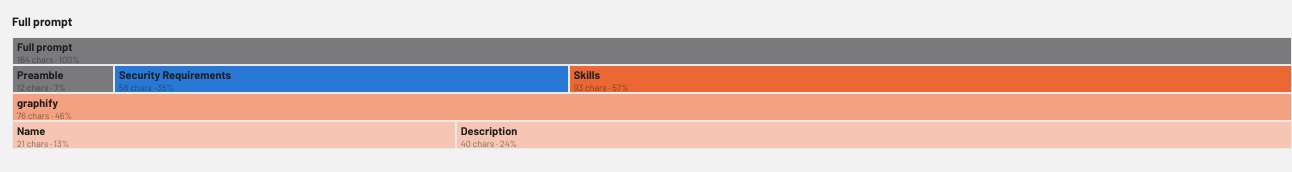
Test: PromptCompositionIcicle › zooms back out when the focused (top) row is clicked again
The width and height of the screenshot is (1292, 172).
Click the element showing "Skills 93 chars · 57%".
click(930, 79)  # box left=569, top=65, right=1291, bottom=93
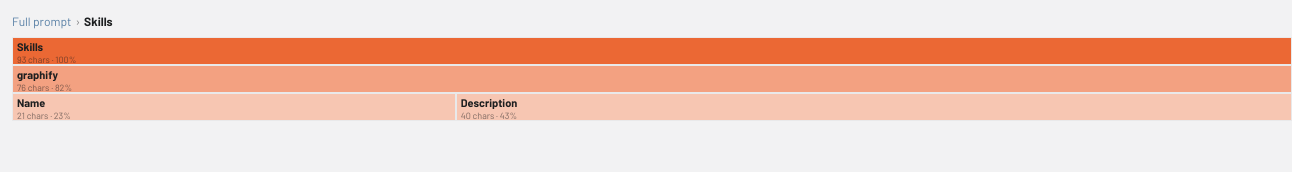
Now the 1st text "Skills" is shown, box left=84, top=12, right=113, bottom=31
Click the element showing "Skills 93 chars · 100%".
click(652, 51)  # box left=12, top=37, right=1291, bottom=65
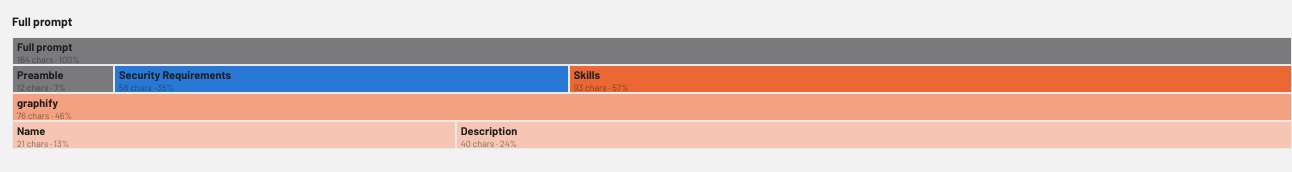
Now the 1st text "Full prompt" is shown, box left=12, top=12, right=72, bottom=31
